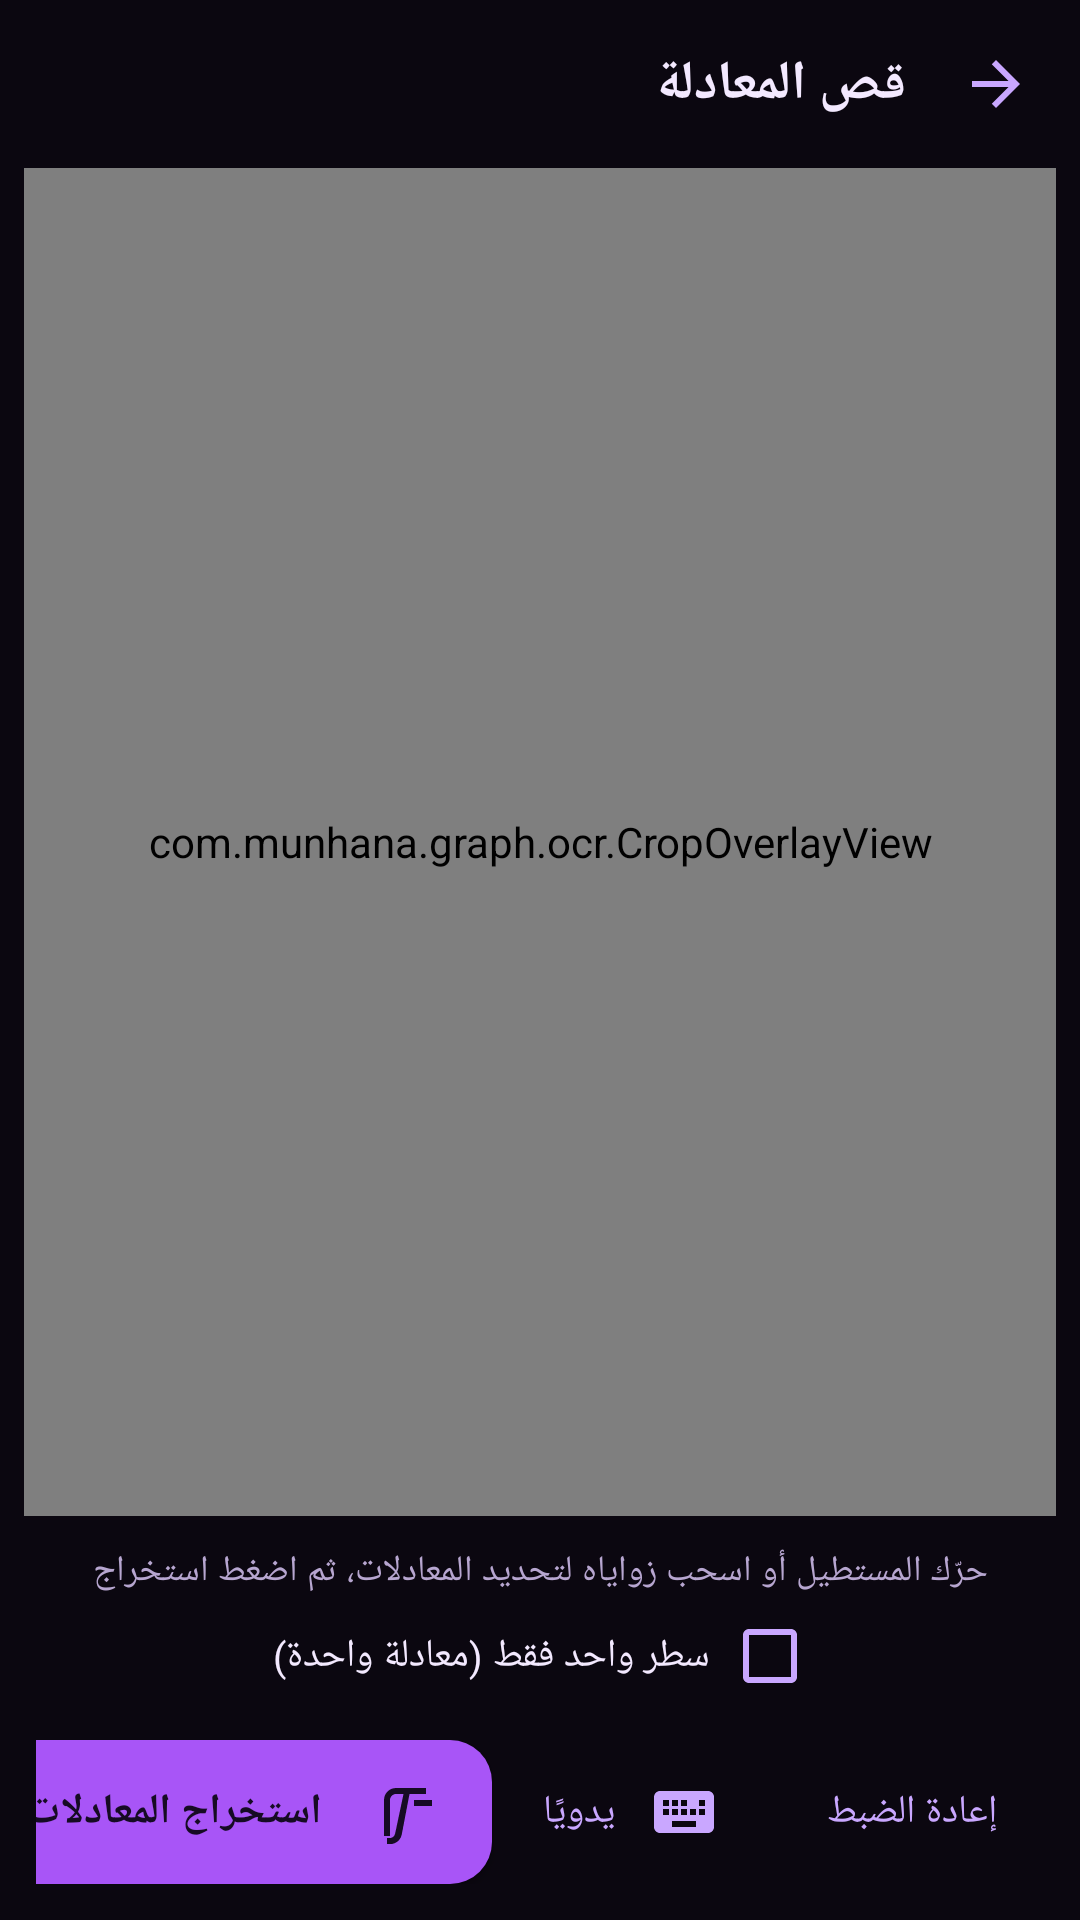

Locate icon controls on the screen. Image size 1080x1920, boxes as (x1, y1, x2, y2).
رجوع: (972, 60, 1020, 108)
